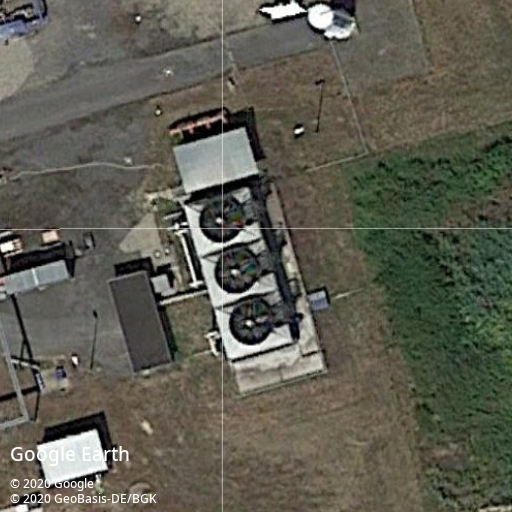Vent: (214, 248, 260, 295), (198, 199, 246, 244), (229, 299, 274, 347)
